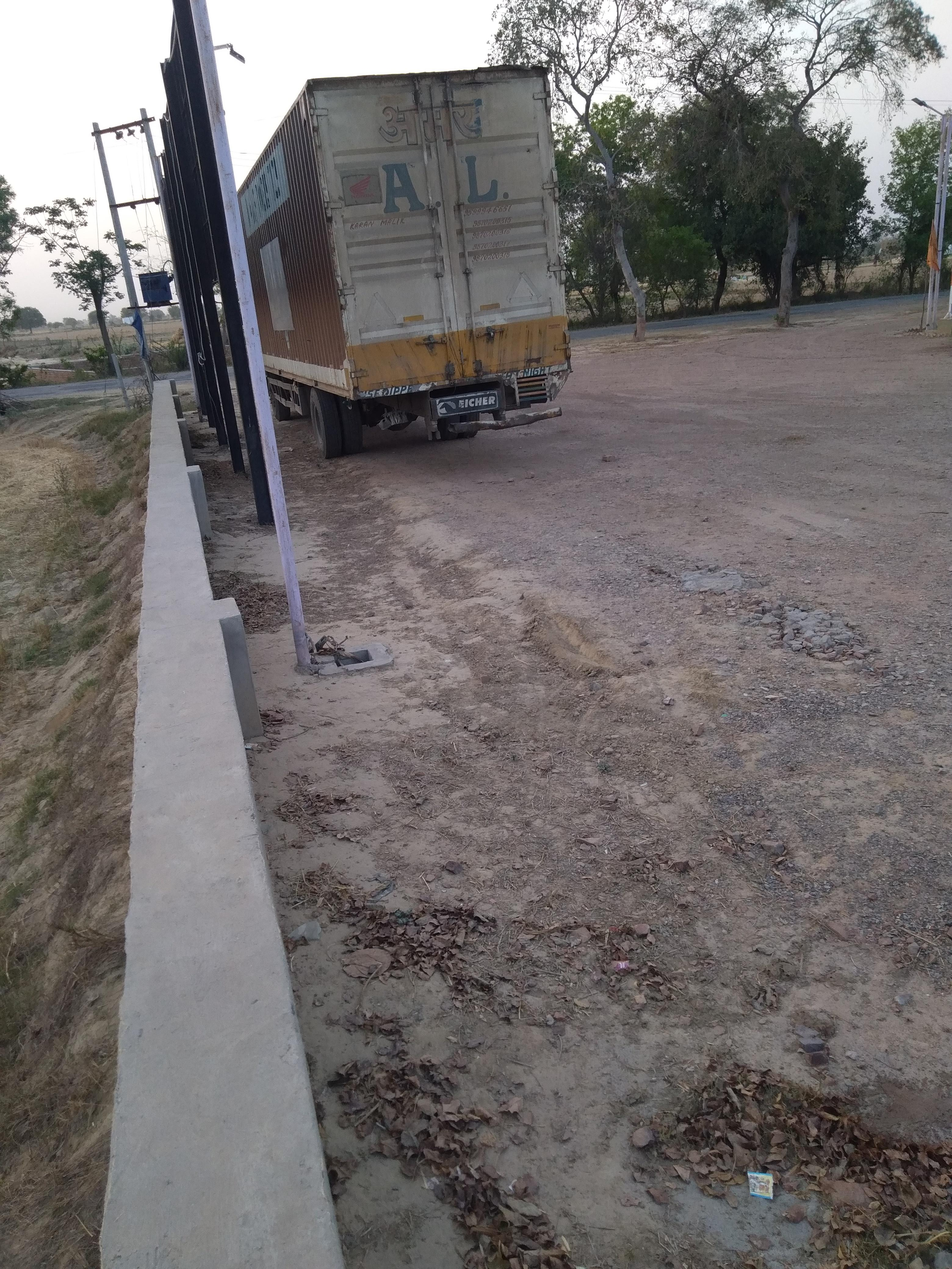Non-emergency: (190, 5, 627, 451)
